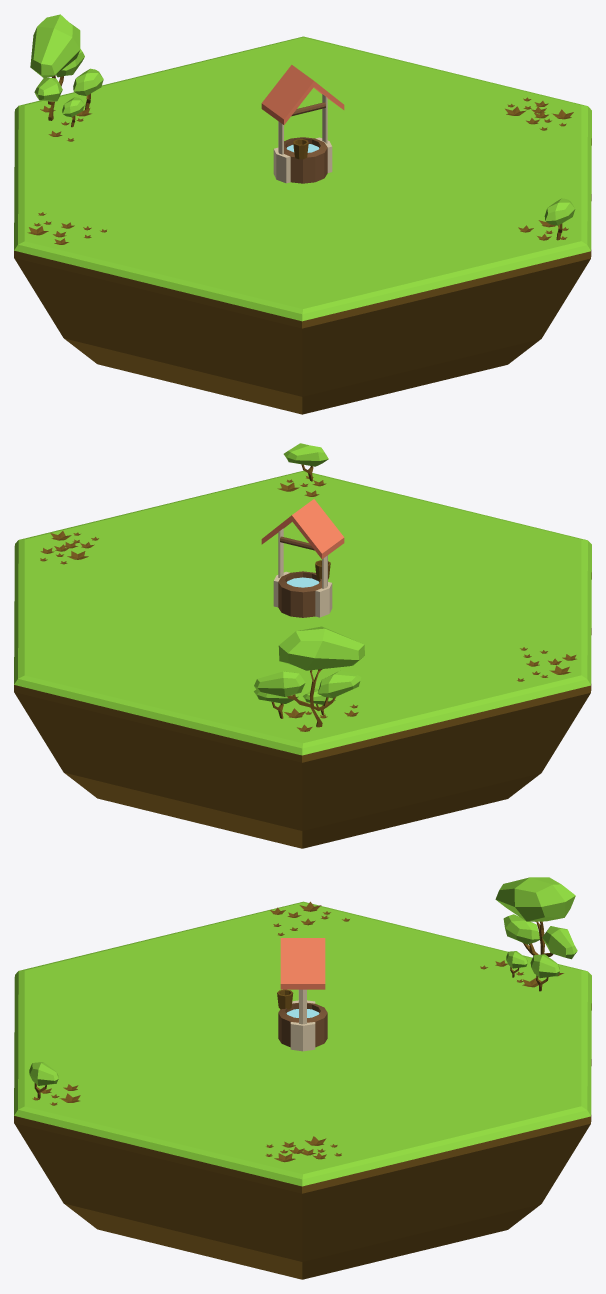
Rendered from Asset_Biome_Plain_02.fbx.
The picture shows the model from 3 angles, top to bottom: view 1: azimuth 30°, elevation 25°; view 2: azimuth 150°, elevation 25°; view 3: azimuth 270°, elevation 25°; orthographic projection.
Parts seen in each view (by area): view 1: Asset_Tile_Plain, structure_puit, Asset_Tree_Plain_02, Asset_Tree_Plain_06, Asset_Tree_Plain_03; view 2: Asset_Tile_Plain, Asset_Tree_Plain_02, structure_puit, Asset_Tree_Plain_06; view 3: Asset_Tile_Plain, Asset_Tree_Plain_02, structure_puit, Asset_Tree_Plain_06, Asset_Tree_Plain_03.
Boxes of the visible parts, <box> form: Asset_Tile_Plain: <box>14,36,591,414</box>; structure_puit: <box>261,65,344,183</box>; Asset_Tree_Plain_02: <box>30,14,84,120</box>; Asset_Tree_Plain_06: <box>544,198,575,240</box>; Asset_Tree_Plain_03: <box>73,68,103,109</box>; Asset_Tile_Plain: <box>14,470,591,848</box>; Asset_Tree_Plain_02: <box>254,626,364,727</box>; structure_puit: <box>261,499,344,617</box>; Asset_Tree_Plain_06: <box>283,443,328,481</box>; Asset_Tile_Plain: <box>14,901,591,1279</box>; Asset_Tree_Plain_02: <box>495,877,577,959</box>; structure_puit: <box>278,938,327,1051</box>; Asset_Tree_Plain_06: <box>29,1062,58,1098</box>; Asset_Tree_Plain_03: <box>530,954,559,991</box>.
Bounding box in the file's own units: 436 × 184 × 378.
